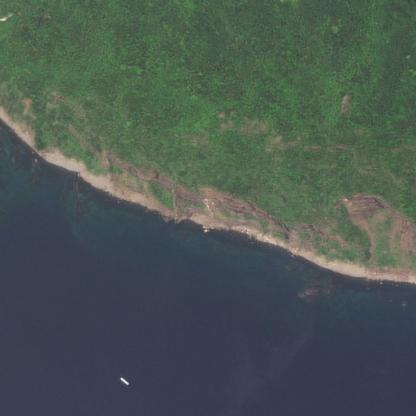ship: (115, 372, 130, 388)
